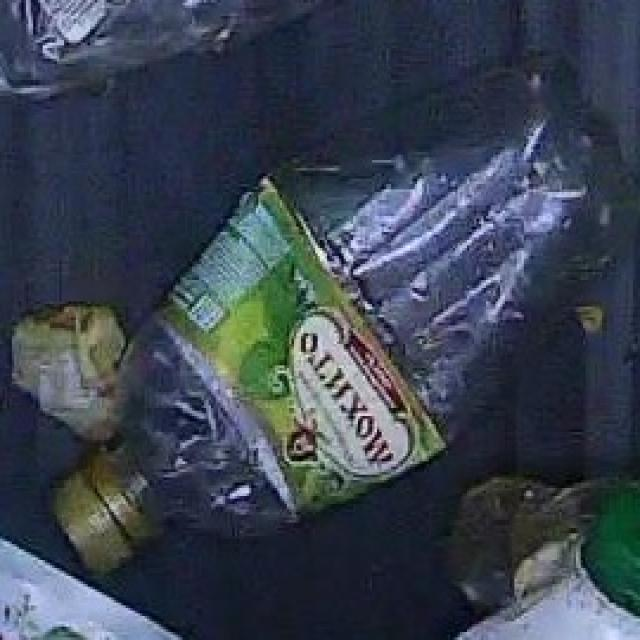plasticbottle: (12, 33, 627, 584)
